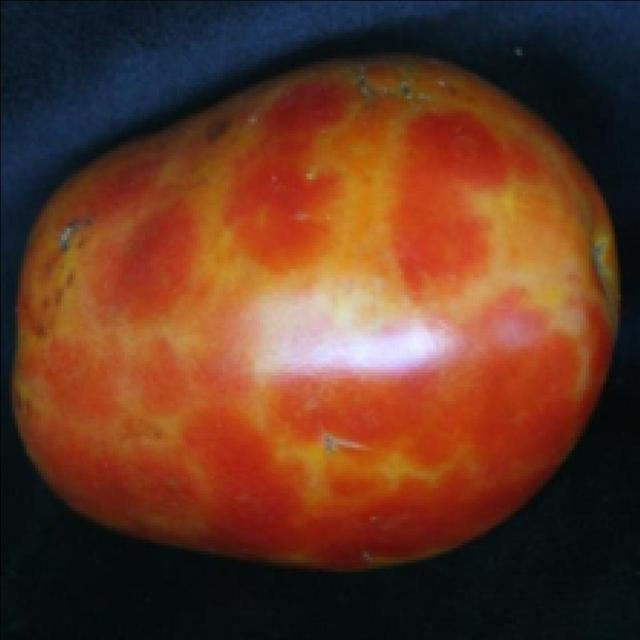Spotted wilt Virus Fruit: (9, 35, 414, 383)
